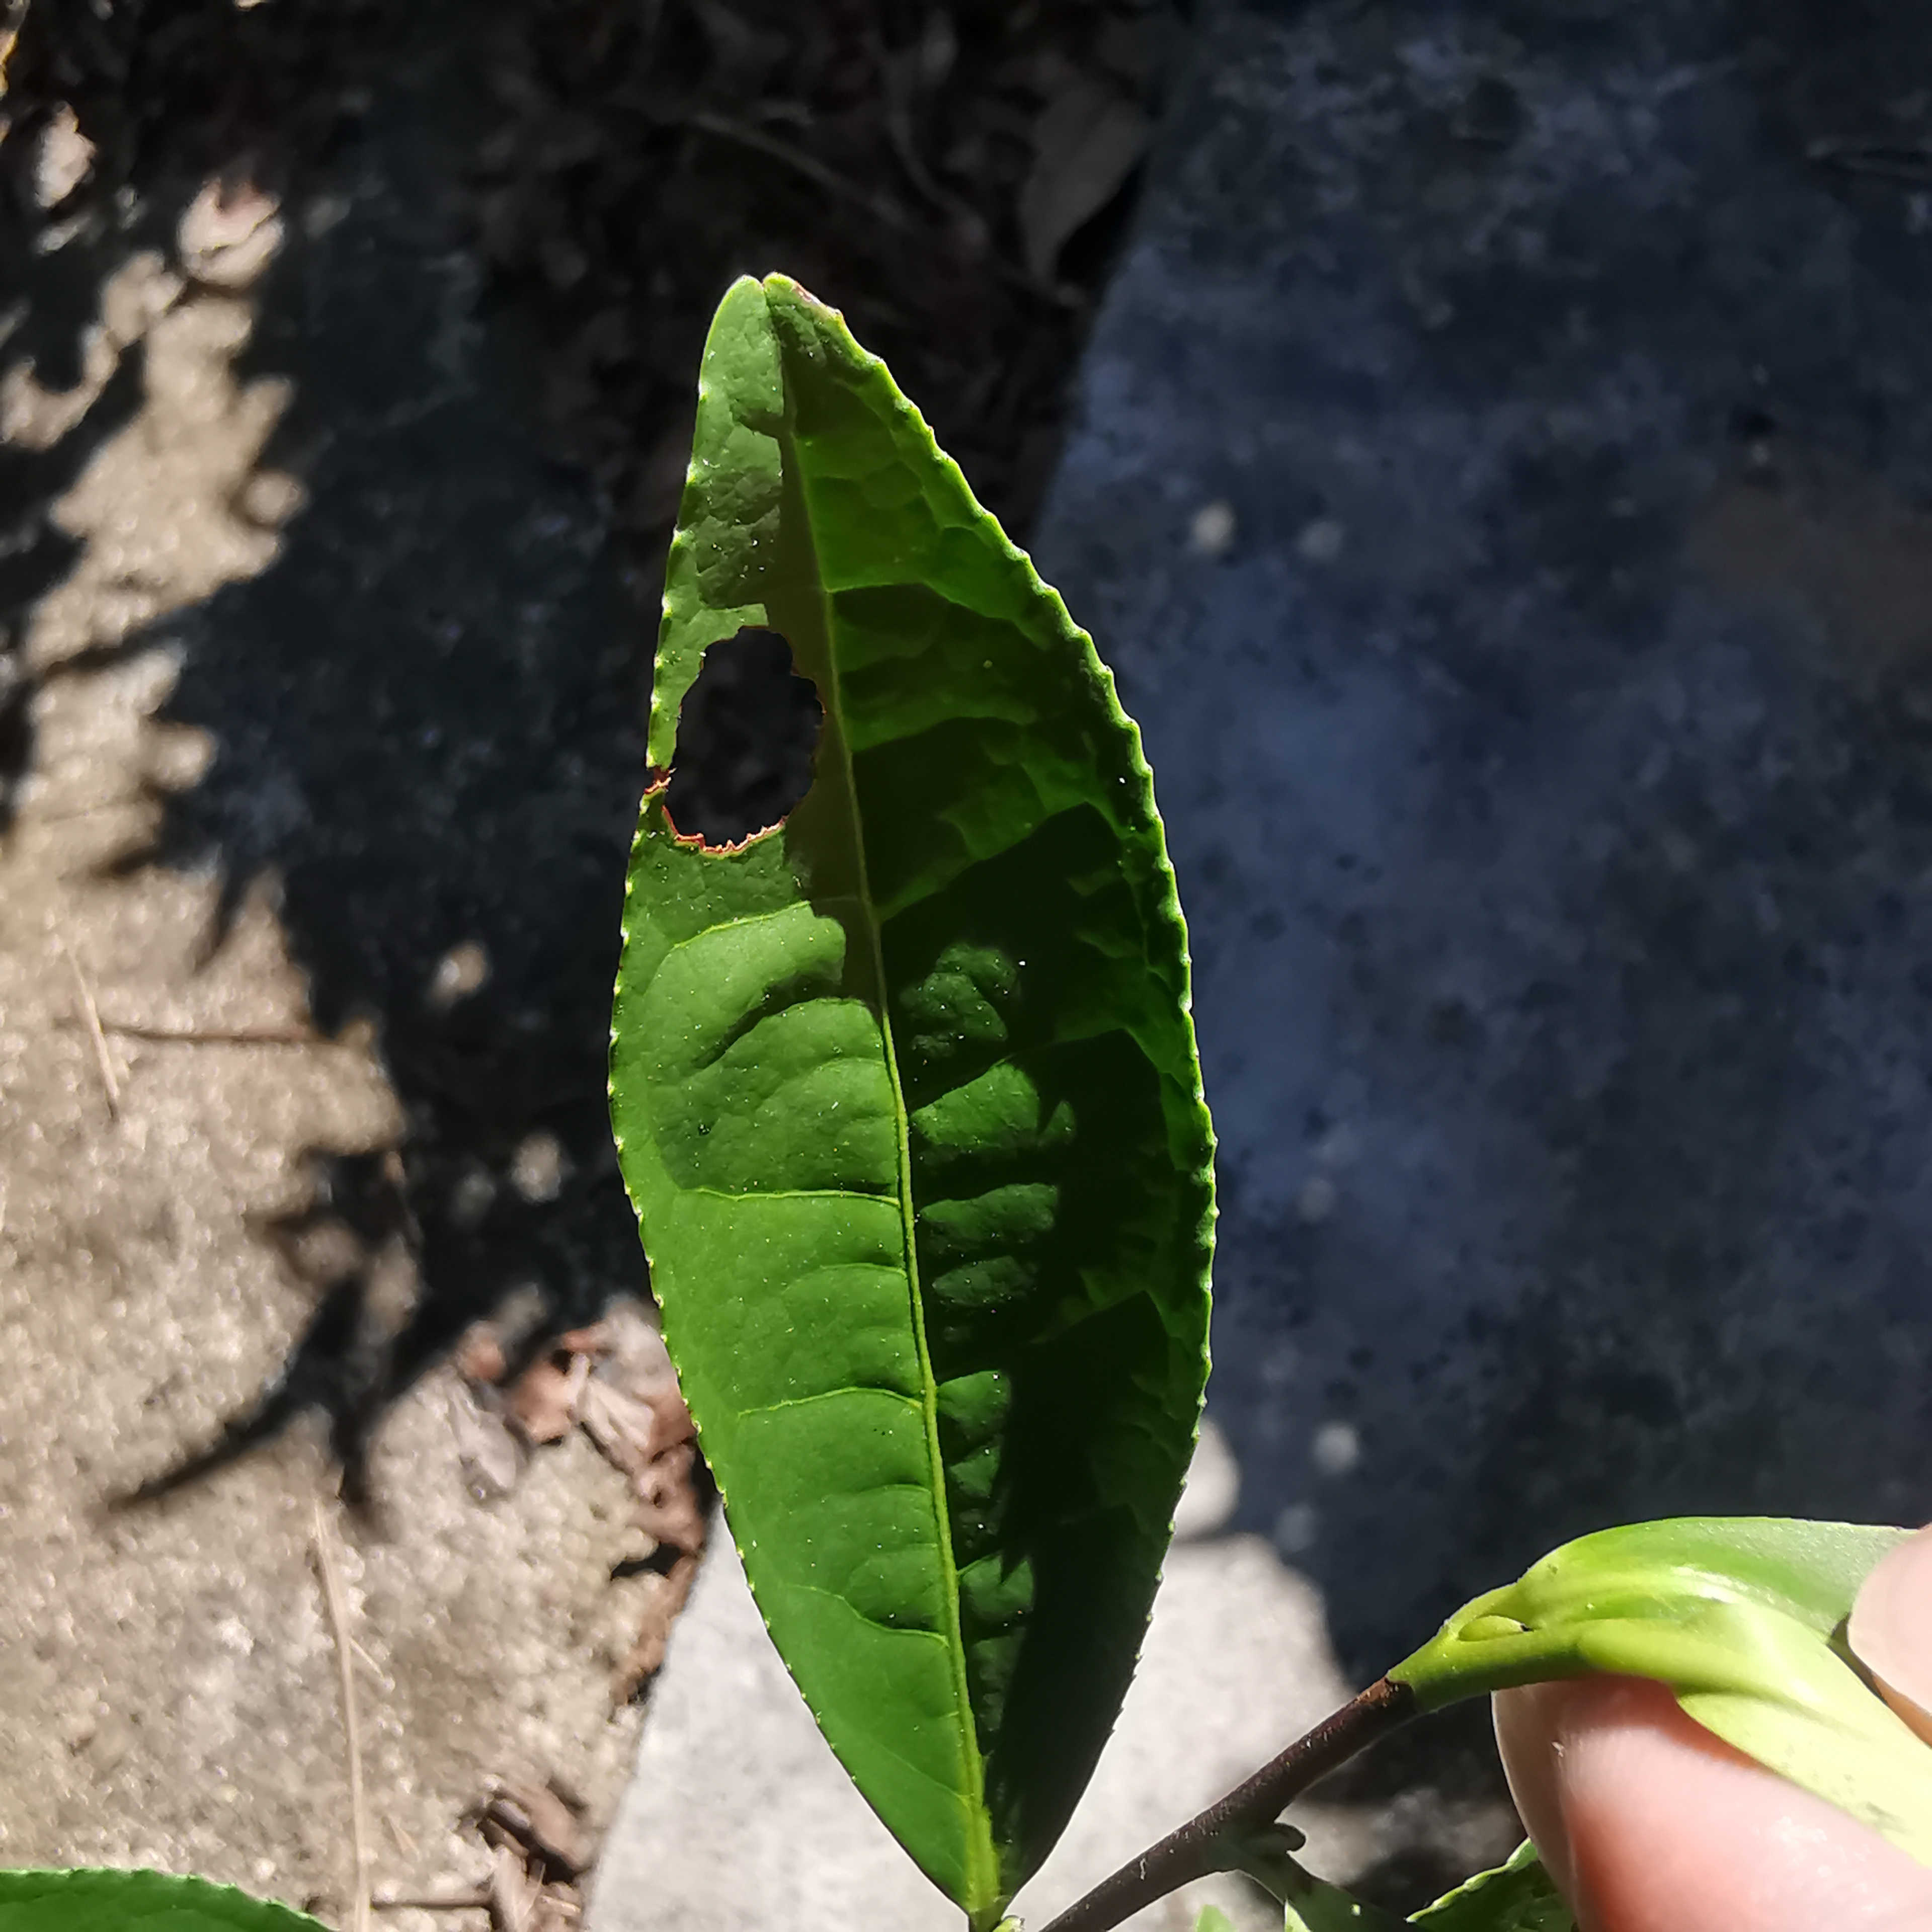chihuo_low: (602, 269, 1226, 1918)
